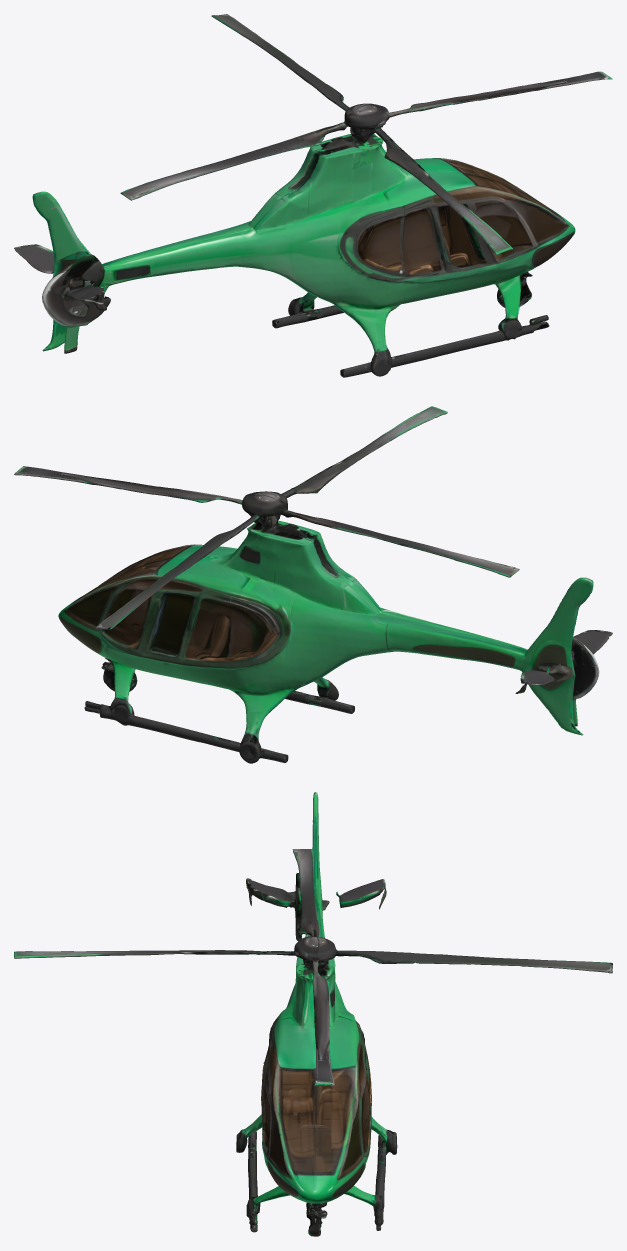
File: Emerald_Horizon_0703043917_texture.glb
3 views of the same model, one above another, from view 1: azimuth 30°, elevation 25°; view 2: azimuth 150°, elevation 25°; view 3: azimuth 270°, elevation 25° (orthographic). The views are drawn at different scales.
Bounding box in the file's own units: 1.99 × 0.7798 × 1.87.
Materials: 1 (1 with a texture image).
